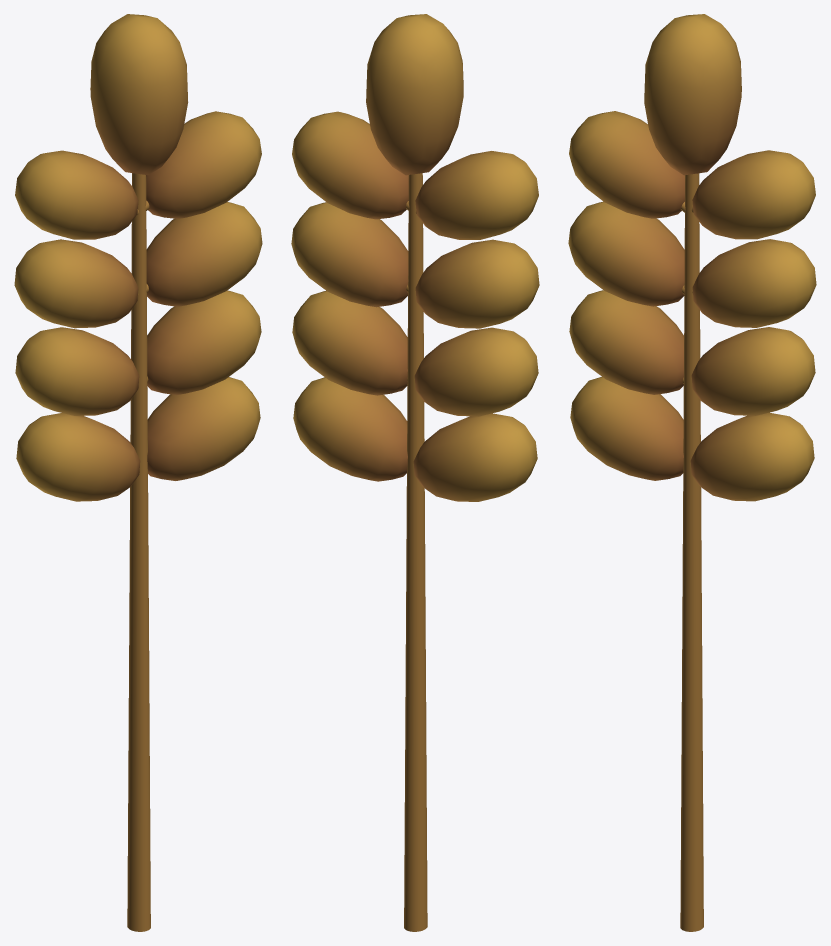
File: prop34.fbx
3 renders of one model, left to right at view 1: azimuth 30°, elevation 25°; view 2: azimuth 150°, elevation 25°; view 3: azimuth 330°, elevation 25°, orthographic.
Parts seen in each view (by area): view 1: Cube.059; view 2: Cube.059; view 3: Cube.059.
Boxes of the visible parts, x1,y1,x2,y2 form: Cube.059: [14, 14, 262, 931]; Cube.059: [291, 14, 539, 931]; Cube.059: [568, 14, 816, 931].
Size of the model in its own units: 0.6837 by 0.2644 by 2.51.
